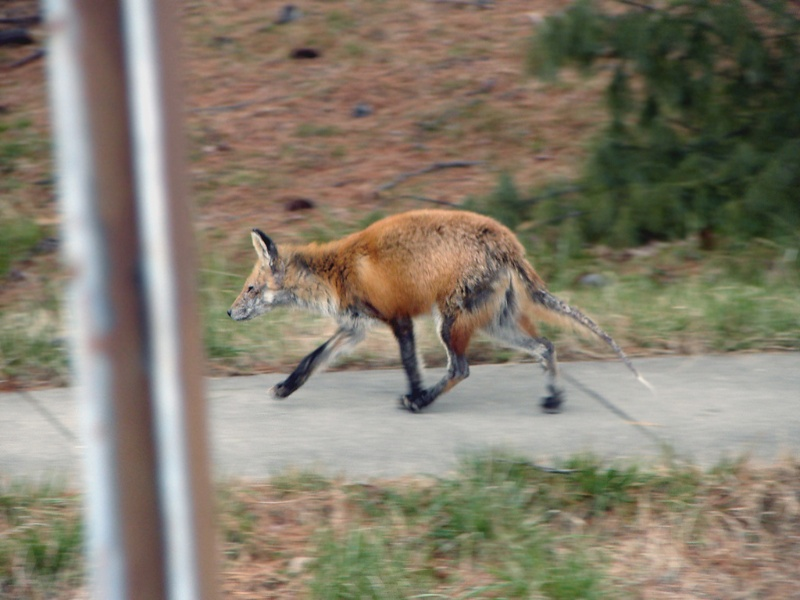fox: (221, 209, 654, 431)
